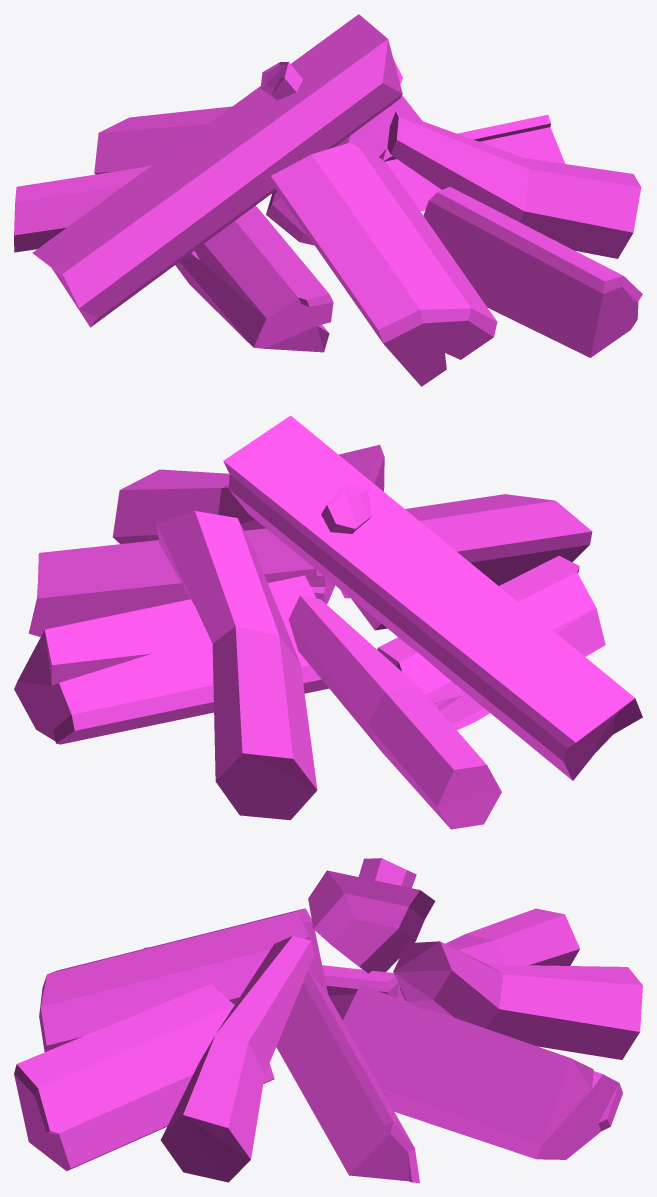
The model's file is SM_Wood_Pile_B_Fantasy.fbx.
3 renders of one model, top to bottom at view 1: azimuth 30°, elevation 25°; view 2: azimuth 150°, elevation 25°; view 3: azimuth 270°, elevation 25°, orthographic. The views are drawn at different scales.
Visible parts, largest first — view 1: SM_Wood_Pile_B_Fantasy; view 2: SM_Wood_Pile_B_Fantasy; view 3: SM_Wood_Pile_B_Fantasy.
Part boxes in pixels (x1,y1,x2,y2): SM_Wood_Pile_B_Fantasy: (14, 14, 642, 386); SM_Wood_Pile_B_Fantasy: (14, 415, 642, 829); SM_Wood_Pile_B_Fantasy: (14, 858, 642, 1182).
Bounding box in the file's own units: 0.6121 × 0.2725 × 0.6187.
